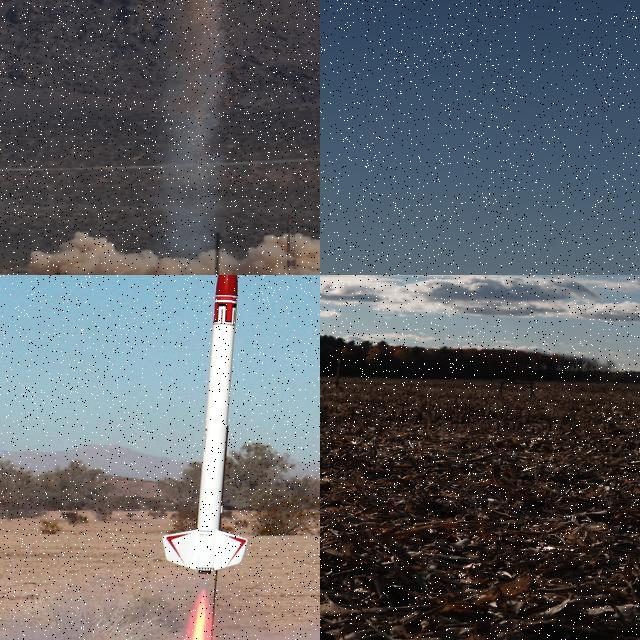Rocket: (160, 275, 249, 574), (335, 358, 341, 378)
